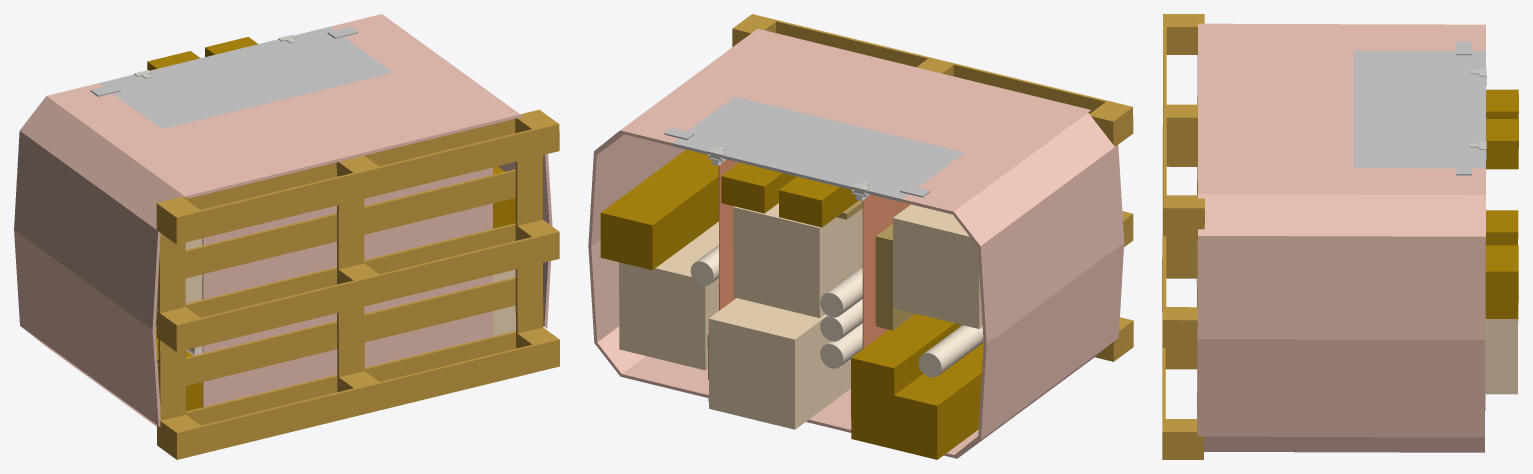
The model's file is ceinture complète baillement.glb.
3 views of the same model, side by side, from view 1: azimuth 30°, elevation 25°; view 2: azimuth 150°, elevation 25°; view 3: azimuth 270°, elevation 25° (orthographic). The views are drawn at different scales.
Parts seen in each view (by area): view 1: Part 3, Part 2, Part 1 (×4); view 2: Part 1 (×23), Part 3, Part 2, Part 4 (×2); view 3: Part 3, Part 1 (×7), Part 2.
Part boxes in pixels (x1=…): Part 3: x1=14, y1=14, x2=552, y2=427; Part 2: x1=156, y1=109, x2=559, y2=459; Part 1 (×4): x1=90, y1=26, x2=515, y2=336; Part 1 (×23): x1=600, y1=96, x2=983, y2=459; Part 3: x1=588, y1=28, x2=1124, y2=458; Part 2: x1=732, y1=14, x2=1133, y2=361; Part 4 (×2): x1=718, y1=159, x2=910, y2=348; Part 3: x1=1196, y1=23, x2=1485, y2=452; Part 1 (×7): x1=1354, y1=42, x2=1518, y2=394; Part 2: x1=1162, y1=14, x2=1204, y2=459.
Bounding box in the file's own units: 1.39 × 0.8361 × 1.03.
